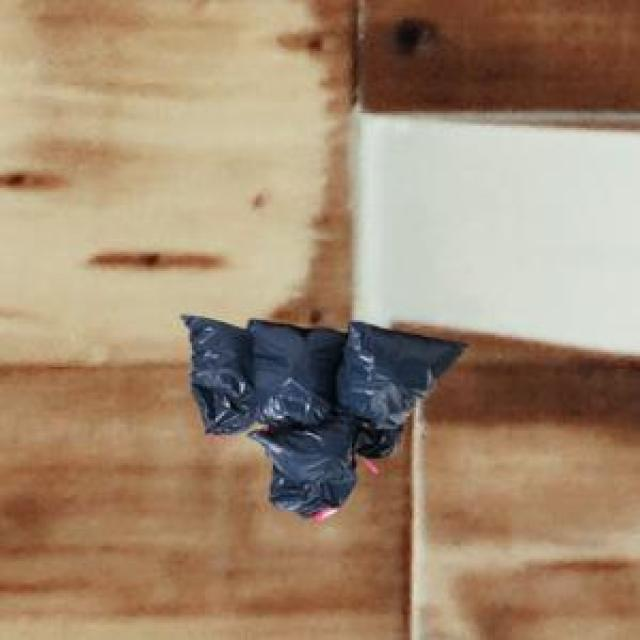miscellaneous trash: (177, 312, 463, 516)
